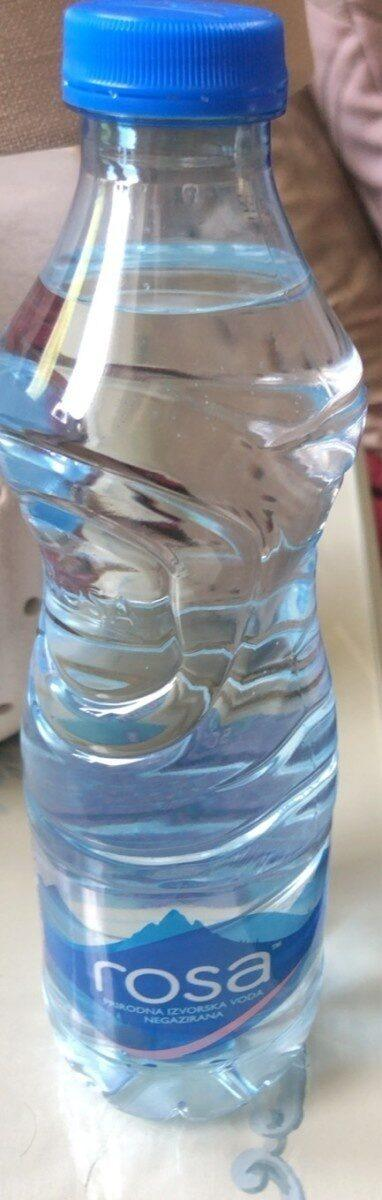bottle: (1, 8, 382, 1200)
